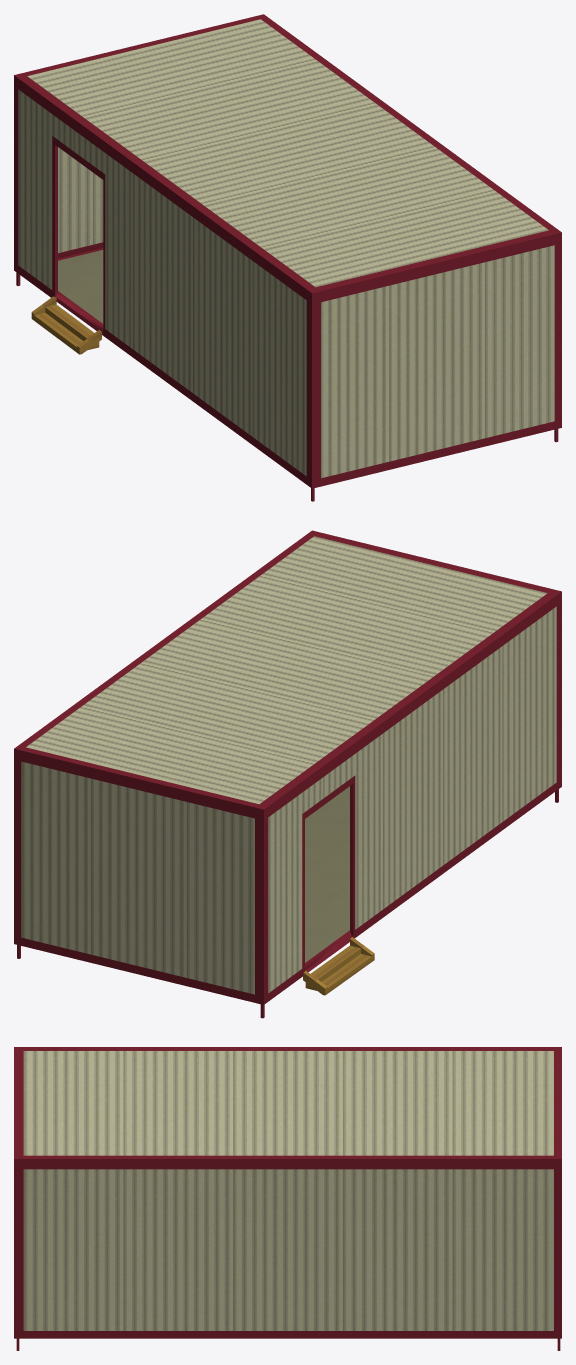
File: Shack.FBX
3 views of the same model, one above another, from view 1: azimuth 30°, elevation 25°; view 2: azimuth 150°, elevation 25°; view 3: azimuth 270°, elevation 25° (orthographic). The views are drawn at different scales.
Visible parts, largest first — view 1: ShackWalls, StraightStair001; view 2: ShackWalls, StraightStair001; view 3: ShackWalls.
Part boxes in pixels (<box>): ShackWalls: <box>14,14,561,488</box>; StraightStair001: <box>31,296,101,354</box>; ShackWalls: <box>14,530,561,1004</box>; StraightStair001: <box>303,937,374,995</box>; ShackWalls: <box>14,1047,561,1338</box>.
Bounding box in the file's own units: 172 × 127 × 327.
4 materials, 4 textured.
